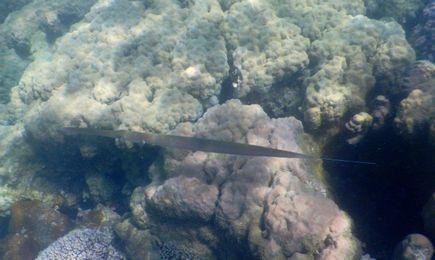Fistularia commersonii: (32, 110, 410, 189)
